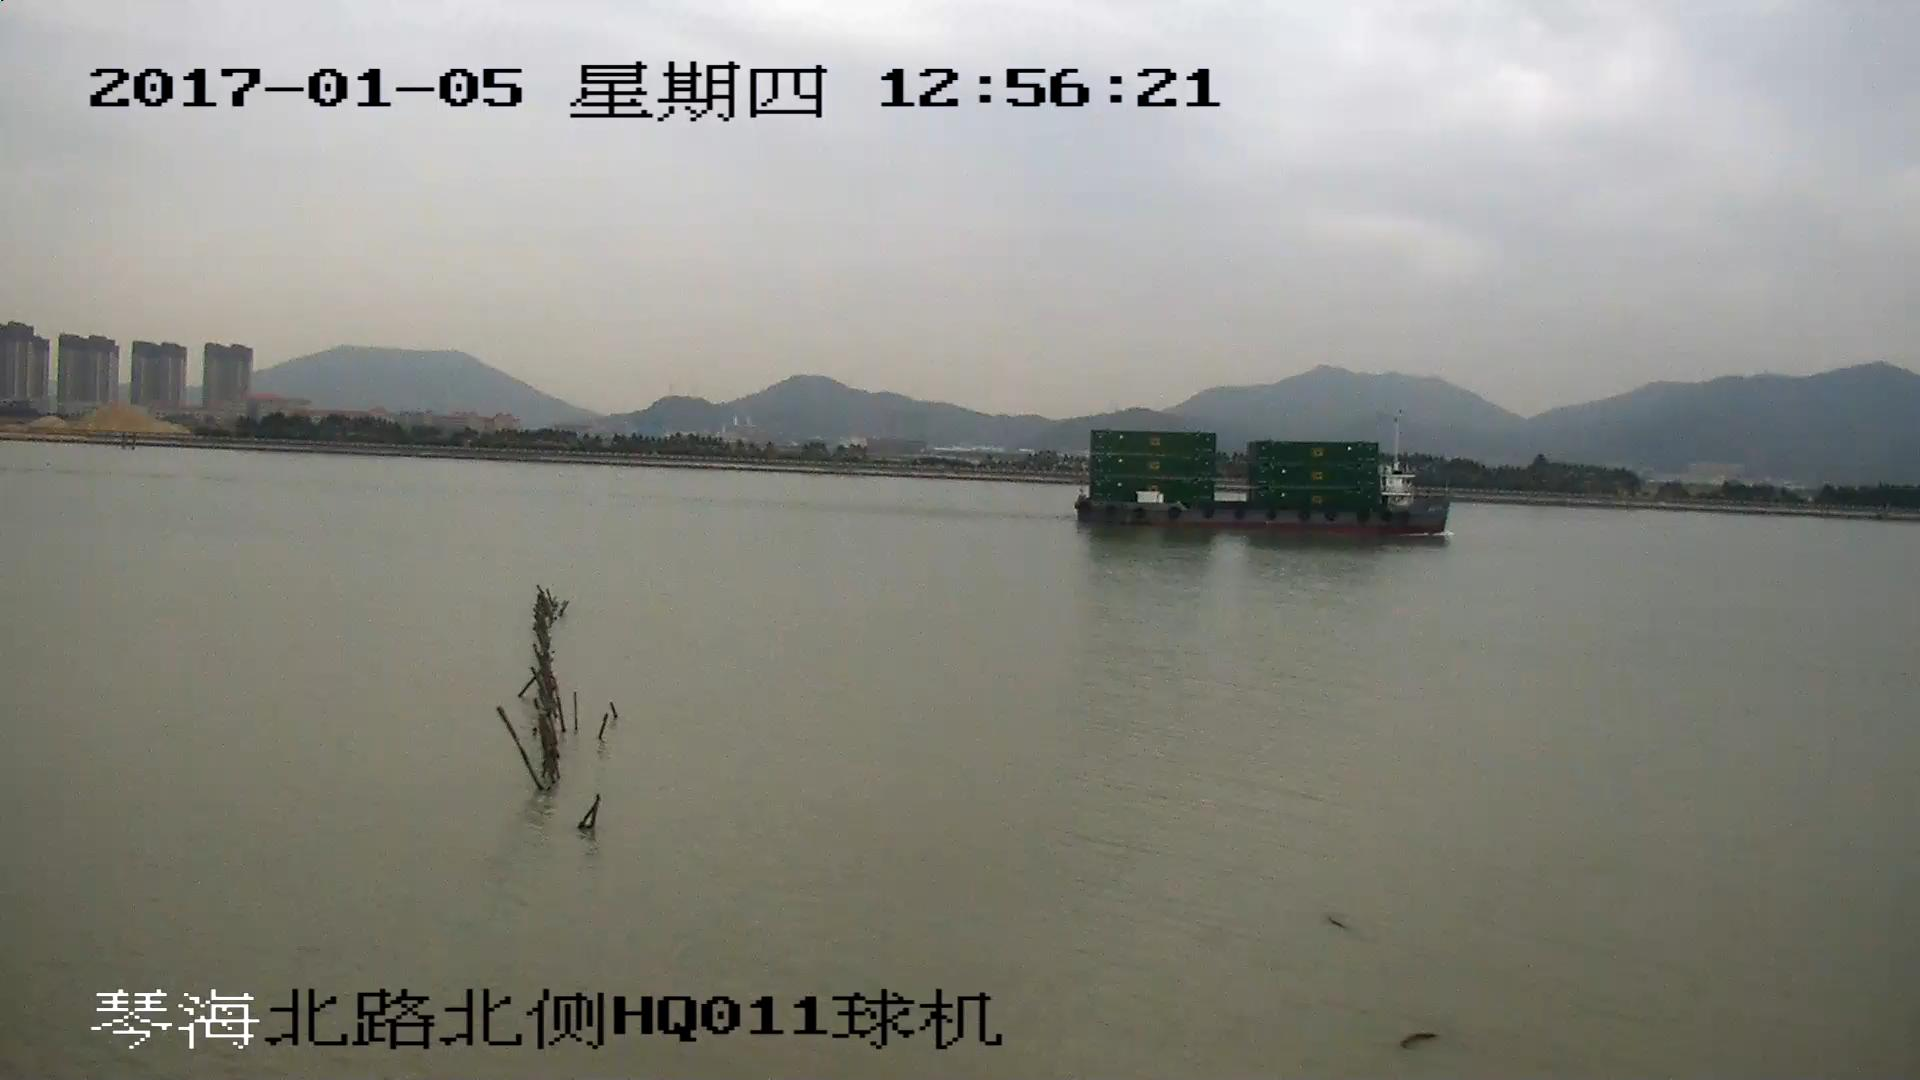container ship: (1070, 427, 1445, 540)
